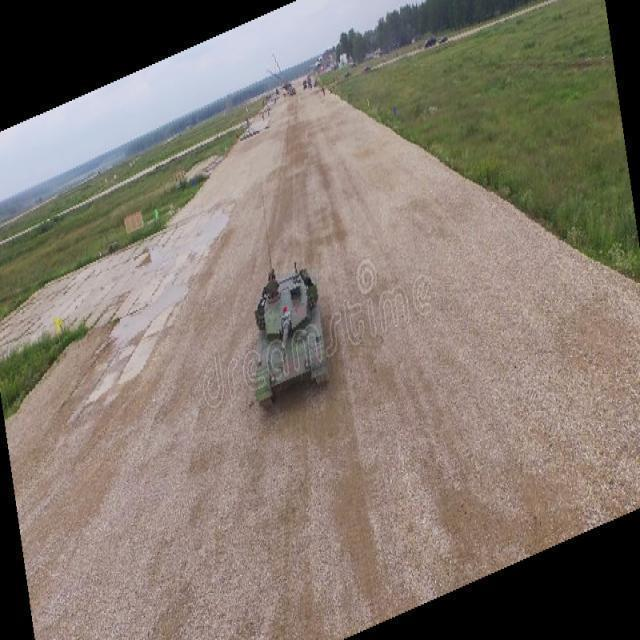MIL_MBT: (253, 264, 328, 409)
